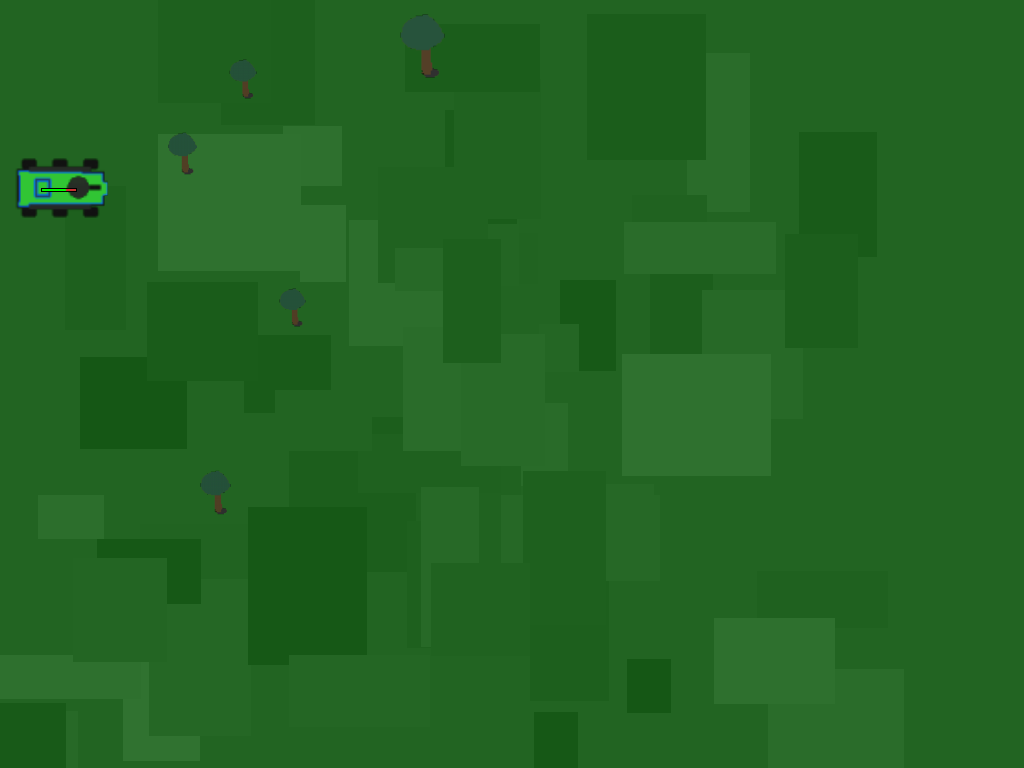AttackPlane_usa: (22, 150, 95, 223)
